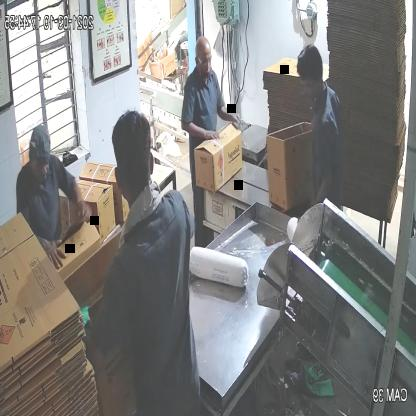no_glove: (66, 169, 95, 229), (177, 118, 221, 149), (216, 102, 242, 133)
